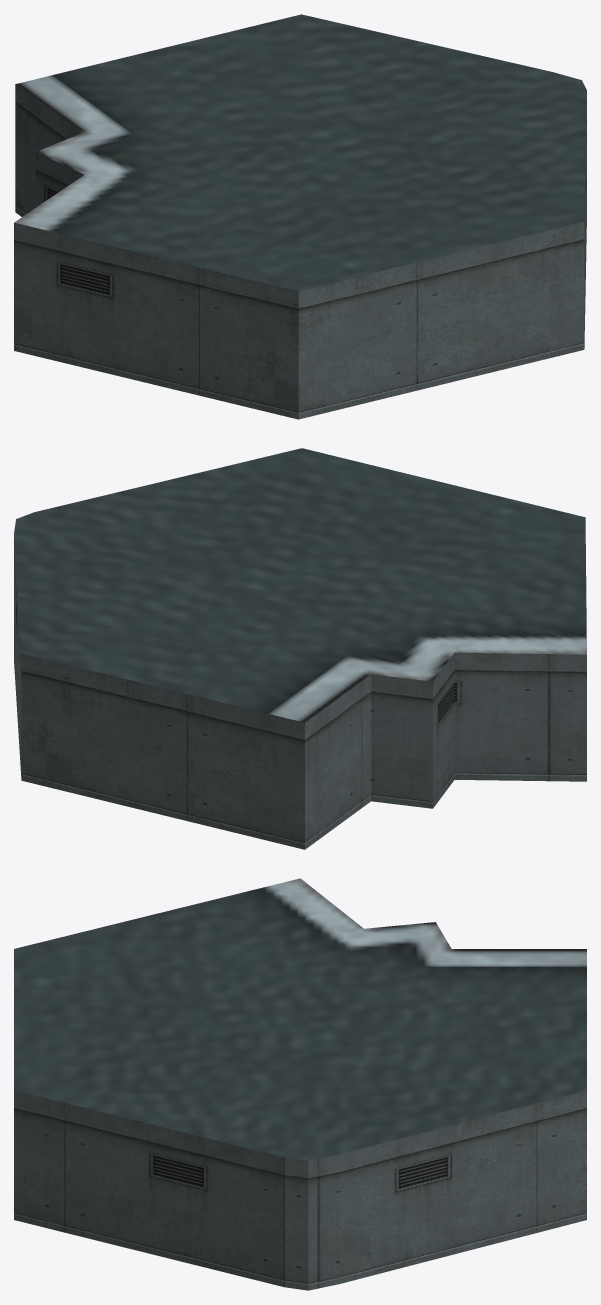
The model's file is medium_roof31.glb.
3 renders of one model, top to bottom at view 1: azimuth 30°, elevation 25°; view 2: azimuth 150°, elevation 25°; view 3: azimuth 270°, elevation 25°, orthographic. The views are drawn at different scales.
Visible parts, largest first — view 1: buildings/saxarba/medium/medium_roof31; view 2: buildings/saxarba/medium/medium_roof31; view 3: buildings/saxarba/medium/medium_roof31.
Part boxes in pixels (x1=…): buildings/saxarba/medium/medium_roof31: x1=14, y1=14, x2=586, y2=419; buildings/saxarba/medium/medium_roof31: x1=14, y1=448, x2=586, y2=849; buildings/saxarba/medium/medium_roof31: x1=14, y1=878, x2=586, y2=1290.
Size of the model in its own units: 84 by 18 by 72.
